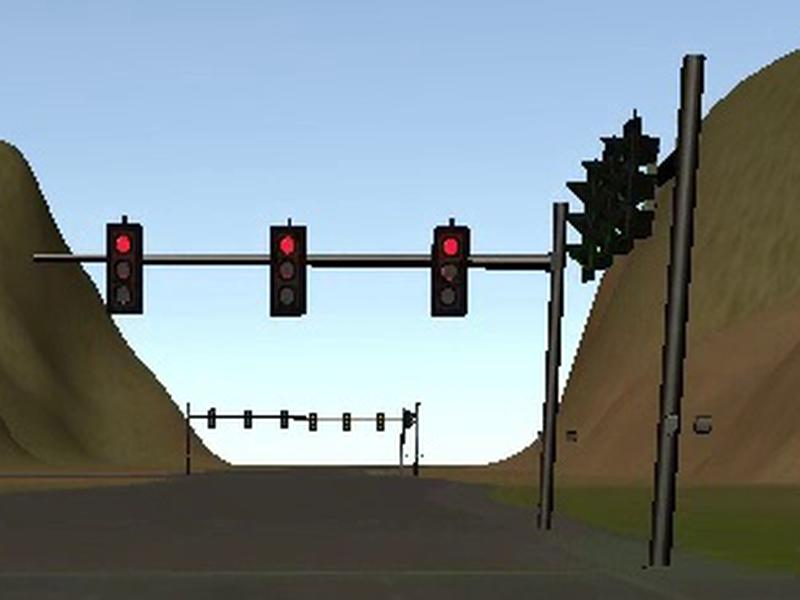Red: (430, 226, 470, 318), (269, 225, 307, 317), (106, 222, 141, 314)
